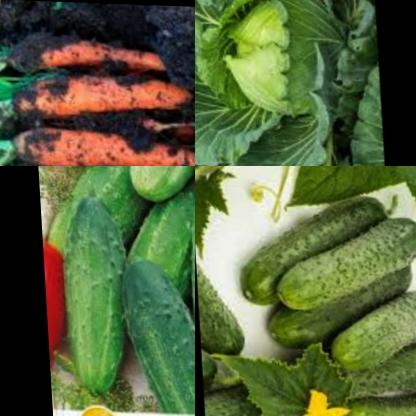cabbage: (195, 0, 338, 136)
carrot: (0, 65, 195, 128), (0, 18, 185, 77), (4, 118, 195, 166)
cucumber: (221, 183, 396, 316), (39, 180, 130, 388), (267, 201, 416, 316), (102, 239, 195, 416), (247, 262, 415, 352), (33, 166, 149, 270), (297, 330, 416, 410), (332, 282, 416, 365), (195, 267, 256, 370), (174, 171, 195, 400), (199, 364, 290, 416), (330, 374, 416, 416), (128, 166, 195, 219)
